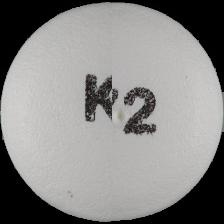62175-272: (0, 0, 224, 224)
